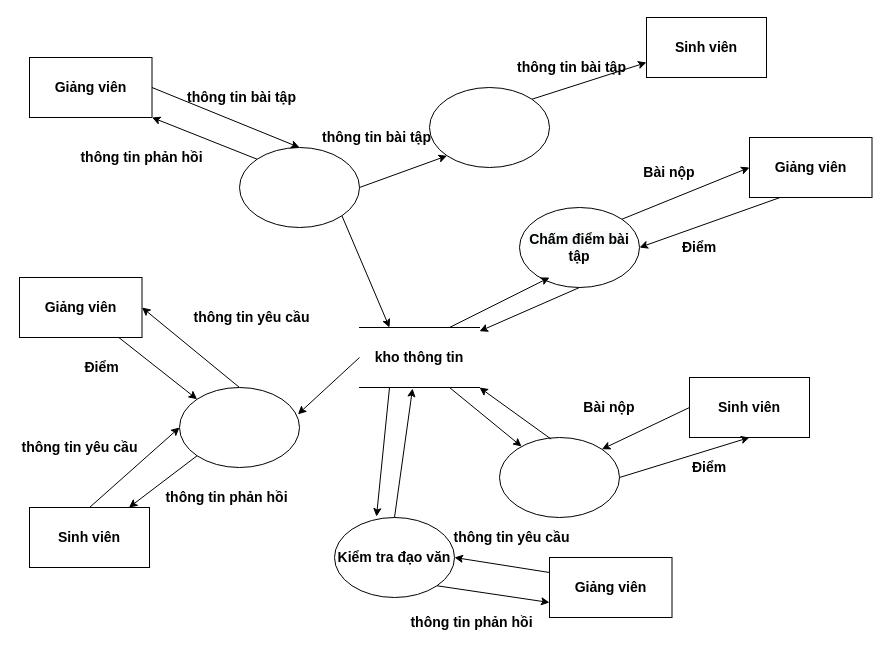
Image size: 890x650. Some labels were removed from this diagram. Each missing label, with the centre of its shape:
"Hiện bài tập mới" goes at pixel 489 127.
"Làm bài tập" goes at pixel 559 477.
"Tạo bài tập" goes at pixel 299 187.
"Xem điểm bài tập" goes at pixel 239 427.
